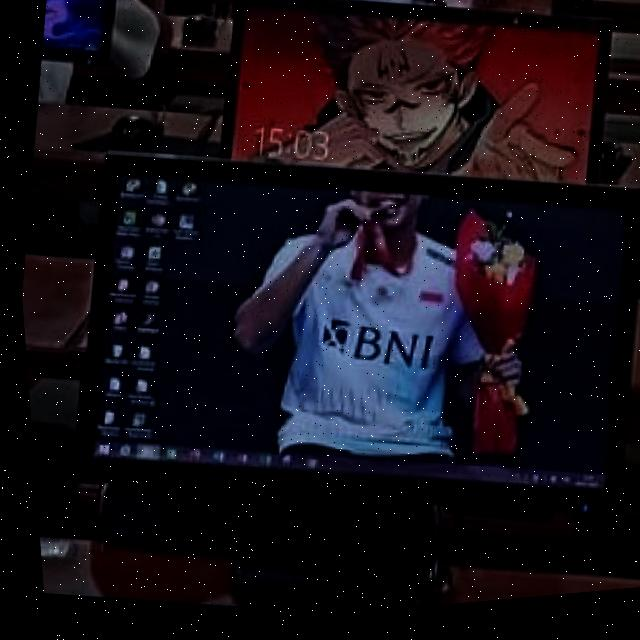onscreen: (78, 158, 636, 523), (229, 4, 602, 193), (289, 0, 526, 21), (41, 0, 113, 63)
